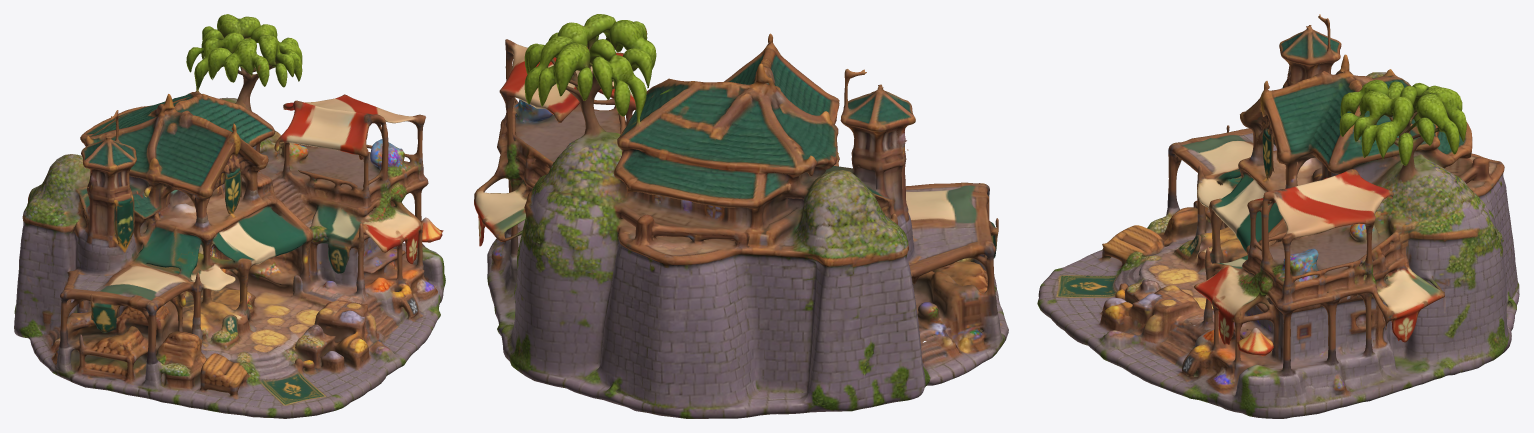
Rendered from 1793574571355-ecos.glb.
The picture shows the model from 3 angles, left to right: view 1: azimuth 30°, elevation 25°; view 2: azimuth 150°, elevation 25°; view 3: azimuth 270°, elevation 25°; orthographic projection. The views are drawn at different scales.
Parts seen in each view (by area): view 1: tripo_node_fa6e6b51; view 2: tripo_node_fa6e6b51; view 3: tripo_node_fa6e6b51.
Part boxes in pixels (x1=…): tripo_node_fa6e6b51: x1=14, y1=14, x2=445, y2=418; tripo_node_fa6e6b51: x1=474, y1=14, x2=1008, y2=418; tripo_node_fa6e6b51: x1=1037, y1=14, x2=1519, y2=418.
Bounding box in the file's own units: 96.67 × 58.3 × 96.67.
1 material, 1 textured.
